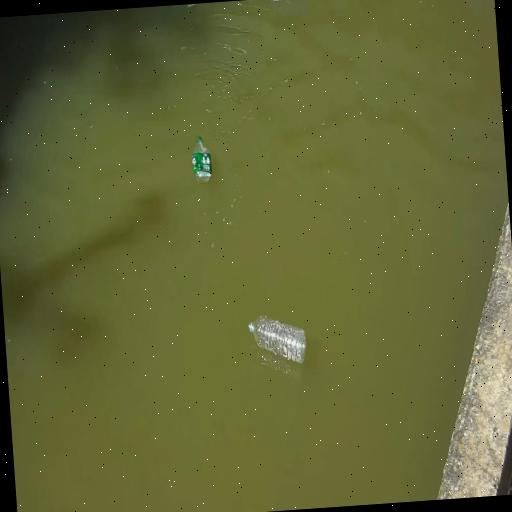plastic: (246, 310, 308, 368), (190, 133, 214, 187)
